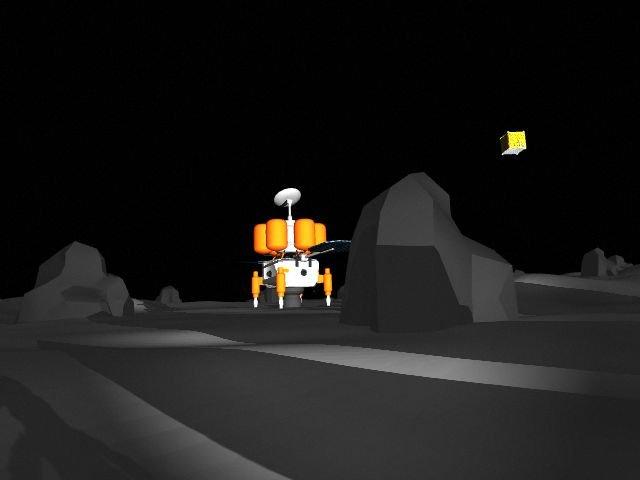homebase: (227, 185, 358, 309)
